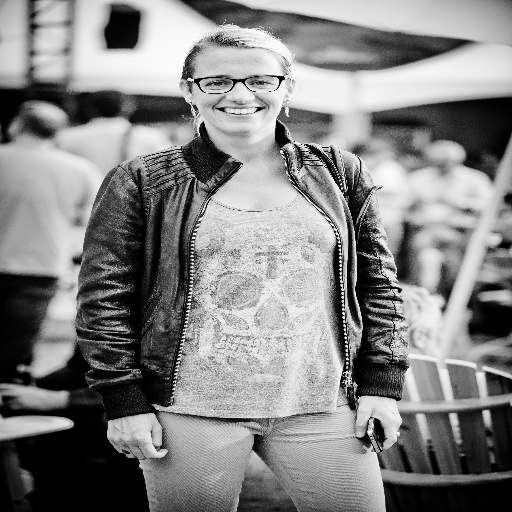hand: (103, 411, 169, 461), (357, 401, 406, 451)
